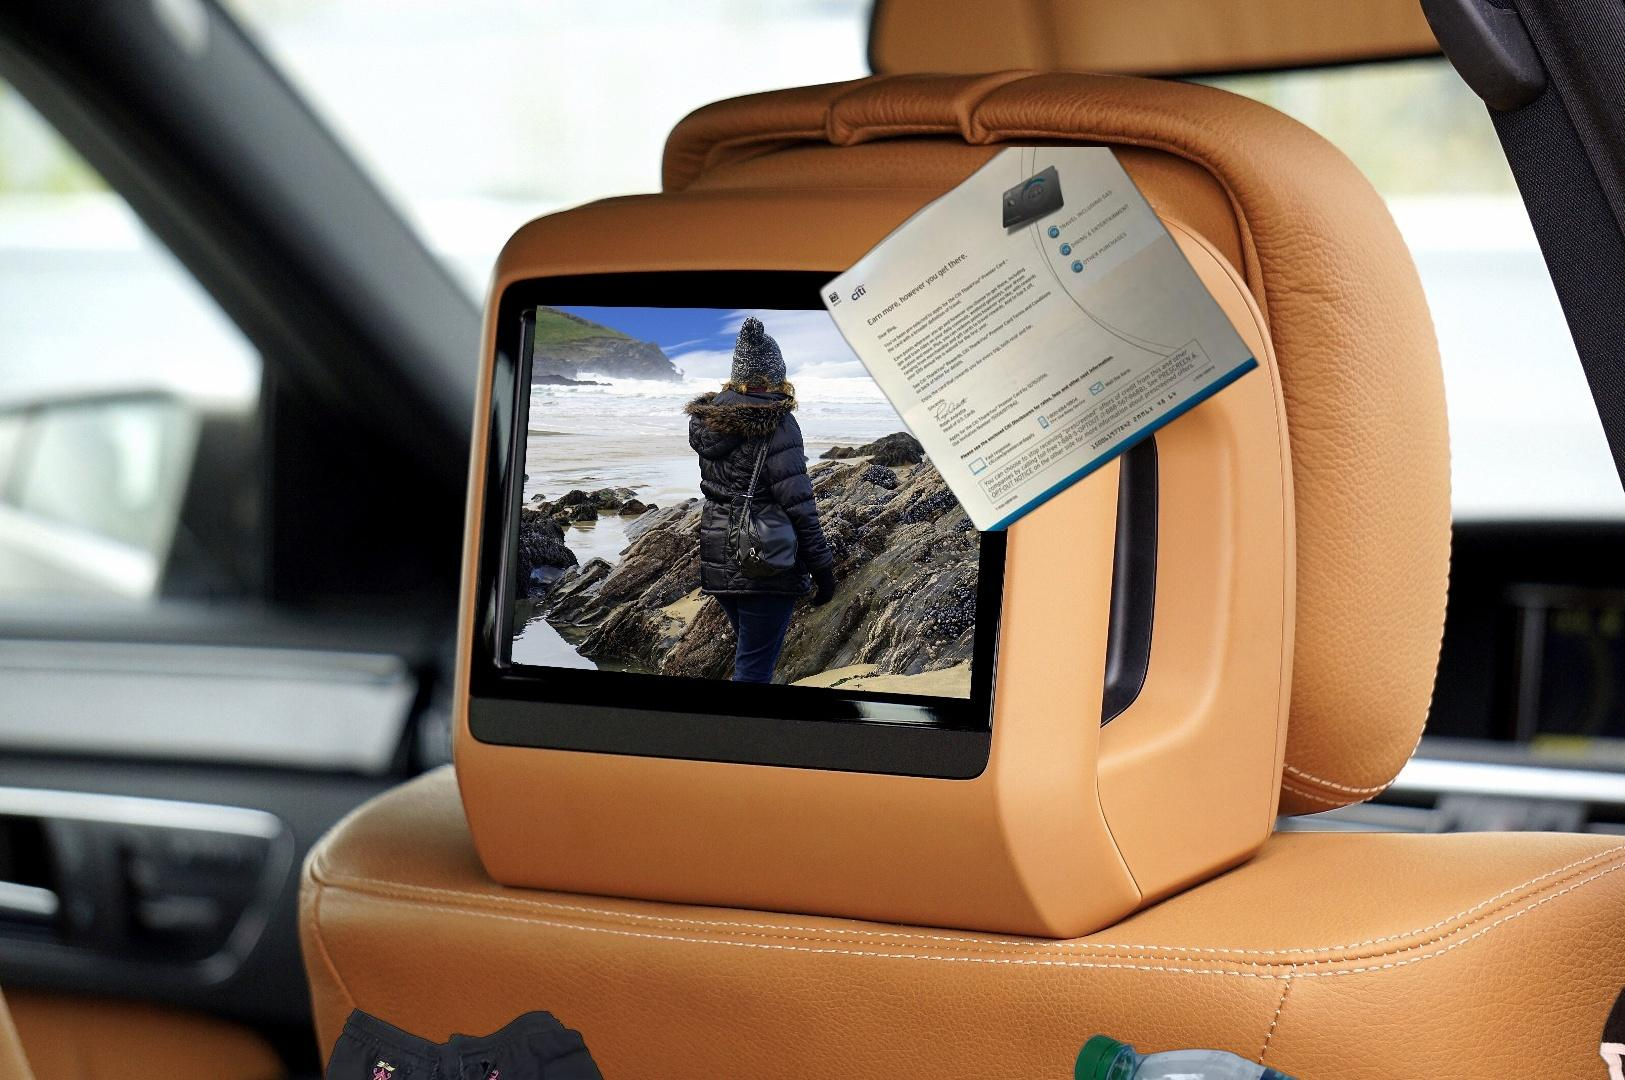clothes: (276, 1003, 655, 1080), (1592, 915, 1625, 1080)
paper: (815, 147, 1263, 532)
plastic-bottles: (1069, 1032, 1467, 1080)
